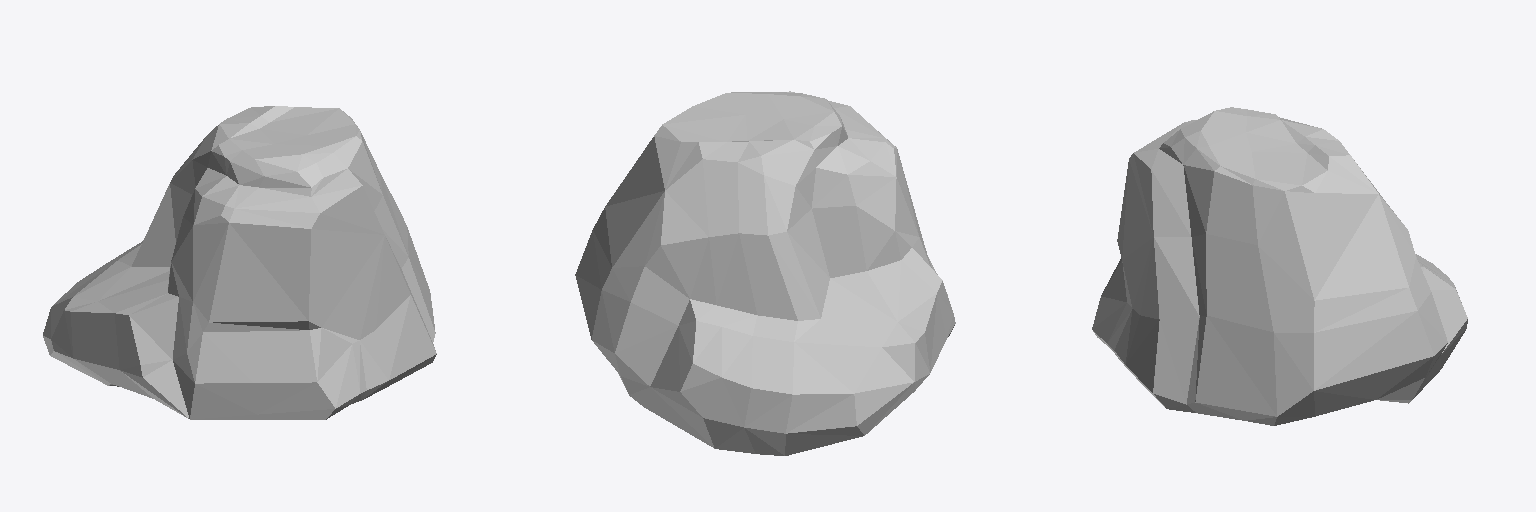
Rendered from Rock Medium.obj.
The picture shows the model from 3 angles: view 1: azimuth 30°, elevation 25°; view 2: azimuth 150°, elevation 25°; view 3: azimuth 270°, elevation 25°; orthographic projection.
Parts seen in each view (by area): view 1: obj1; view 2: obj1; view 3: obj1.
Part boxes in pixels (bbox=[...]): obj1: bbox=[43, 106, 436, 419]; obj1: bbox=[575, 91, 955, 455]; obj1: bbox=[1092, 107, 1467, 425].
Bounding box in the file's own units: 3.23 × 2.26 × 2.99.